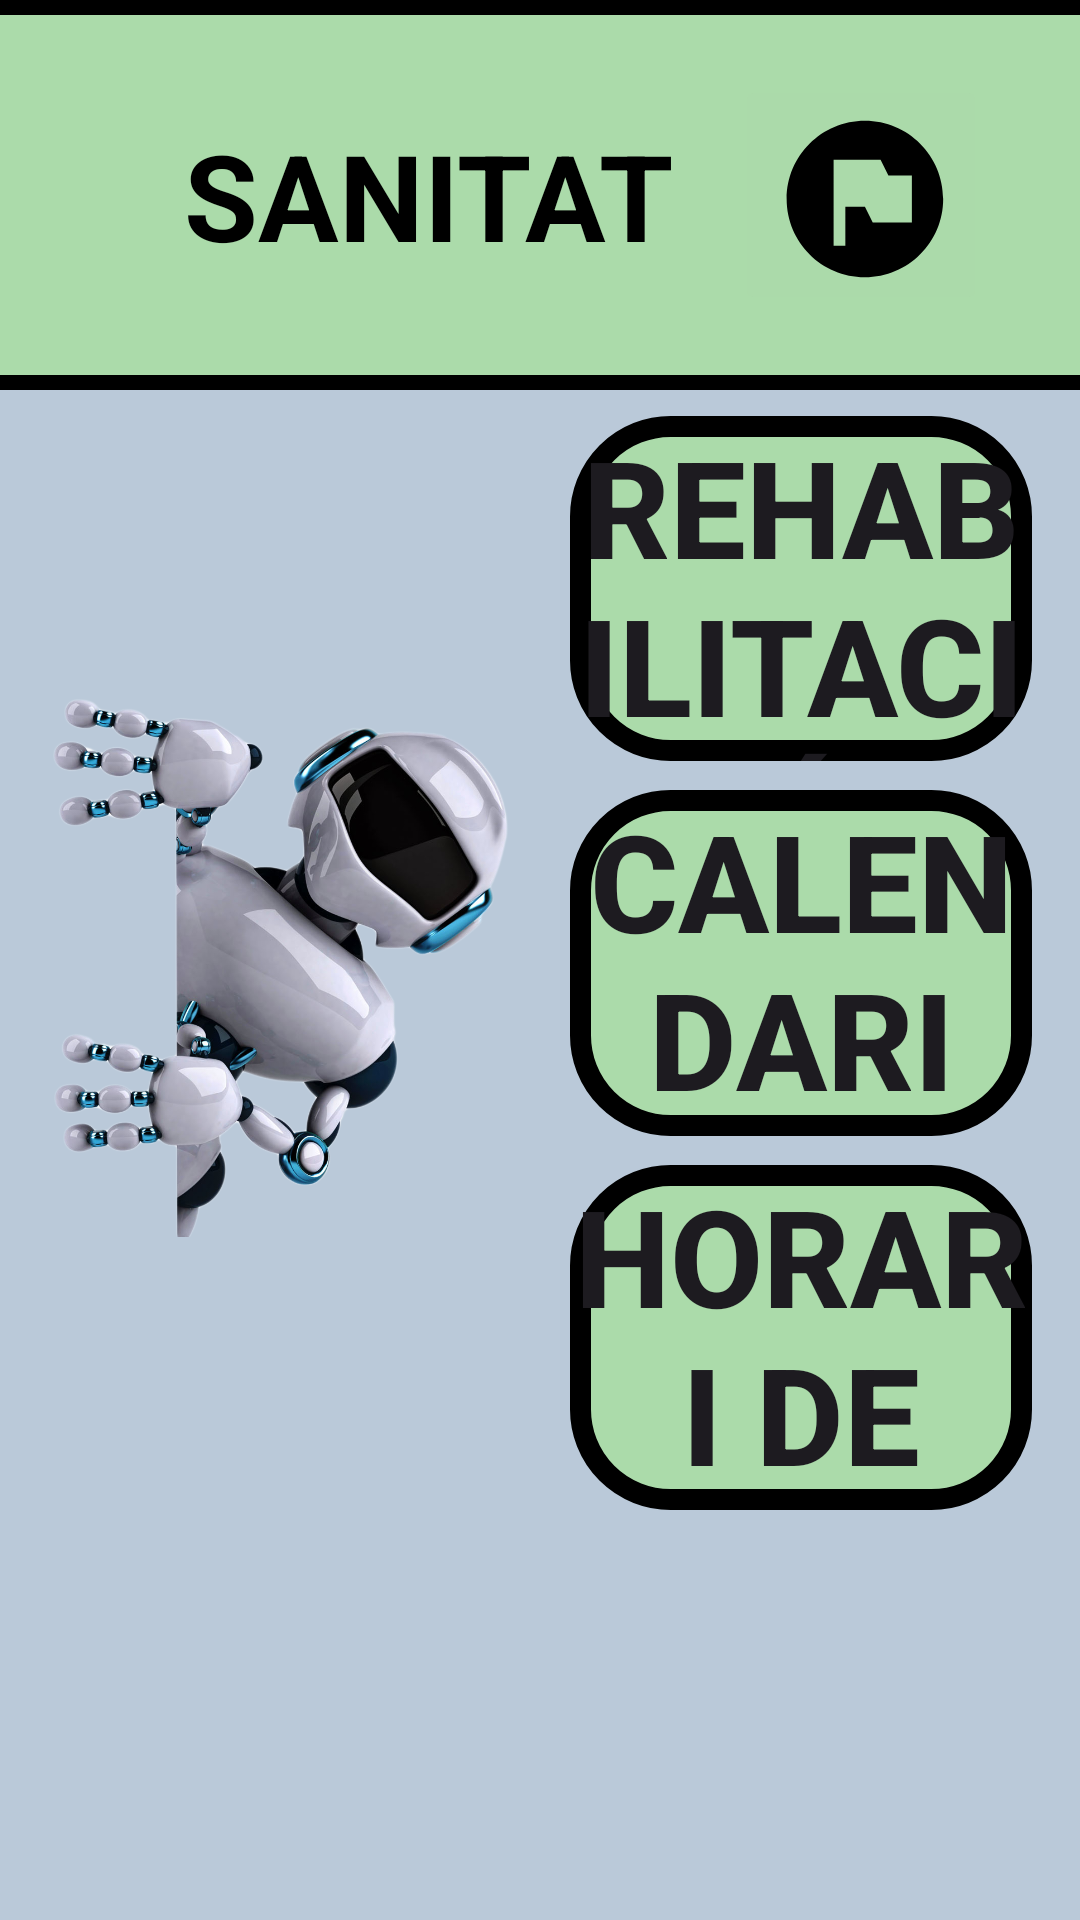

Icons on this 1080px x 1920px Android screen, each with its box as [x1, y1, x2, y2]:
flag circle: [786, 120, 944, 278]
